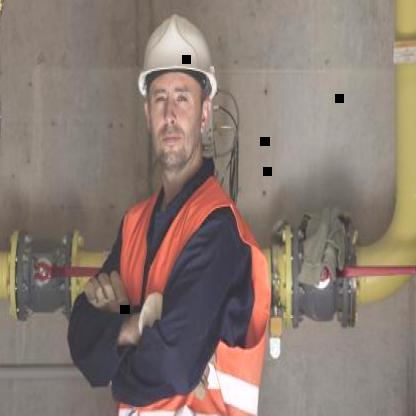helmet: (133, 12, 220, 103)
